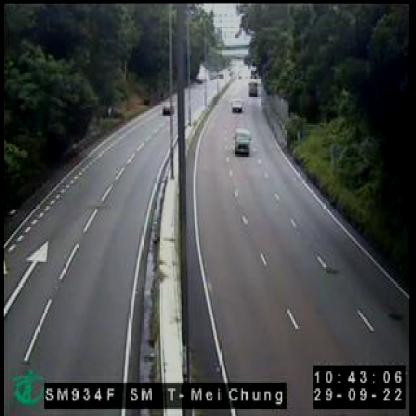Car: (234, 127, 252, 156), (247, 74, 259, 99), (230, 95, 244, 111), (160, 98, 174, 112)
